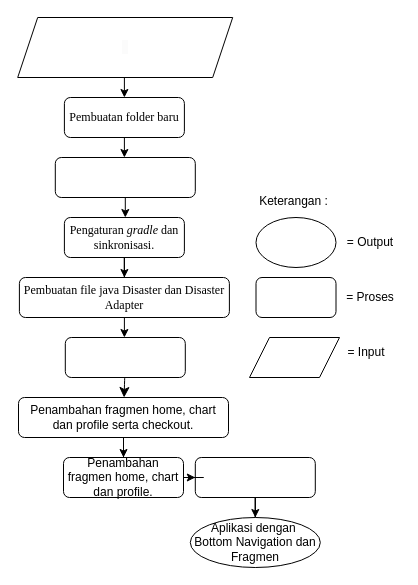
Some shapes in this 418 by 585 pixel diagram are drawn without their labels. Each missing label, with the box of its shape:
Pembuatan LinearLayout XML "Item Disaster": (54, 156, 195, 198)
Penambahan menu dan navigation bottom navigation: (194, 456, 315, 498)
Penambahan resouce file navigation pada folder res: (64, 336, 185, 378)
